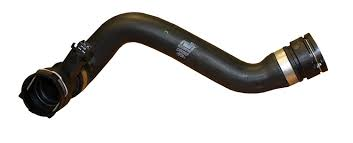radiator_hose: (28, 12, 321, 115)
